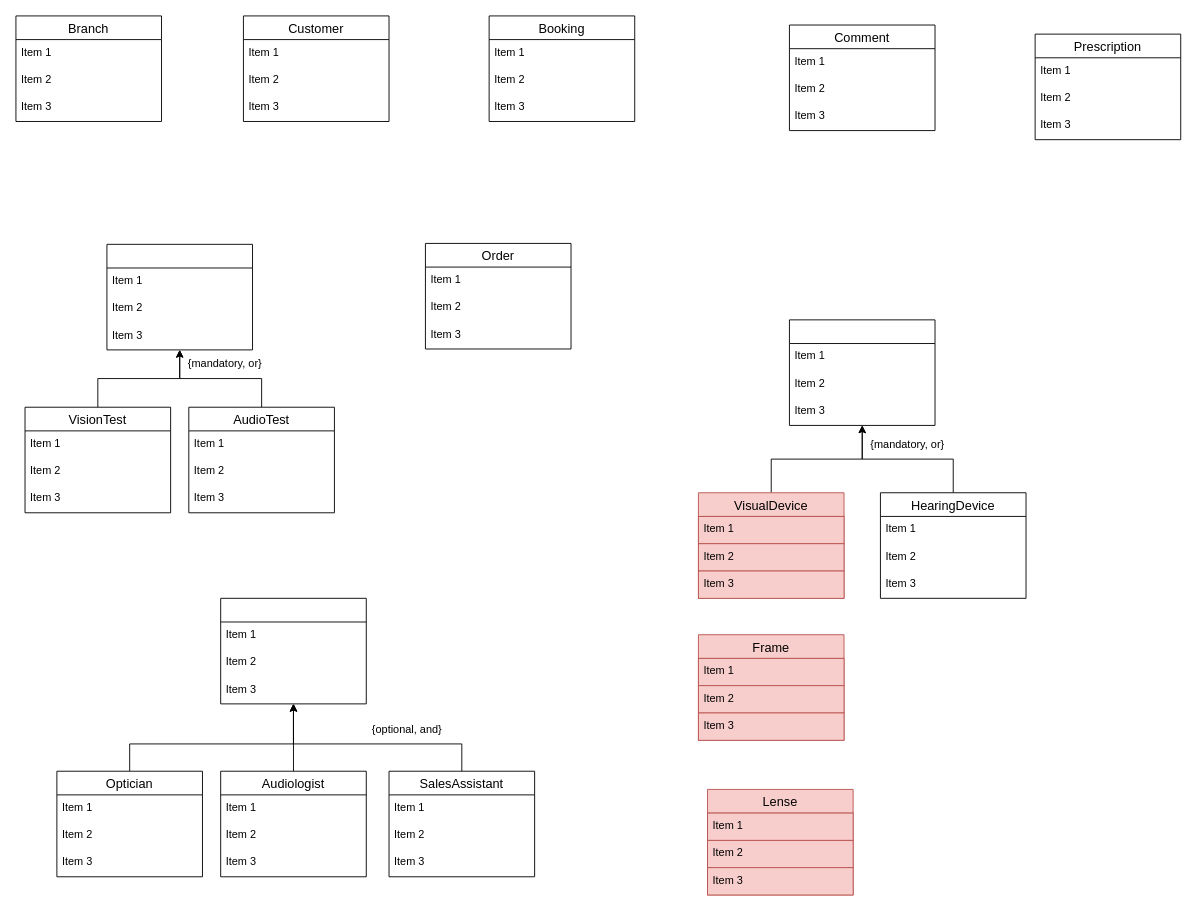
The diagram is 1197 pixels wide and 914 high, and some of its shapes have lost their labels. The shapes that lost their labels are listed below. From the top down, each one's box as (x1, y1, x2, y2) in pixels, then its label:
(106, 243, 253, 350): Test
(789, 319, 935, 425): Device
(220, 597, 366, 704): Staff
